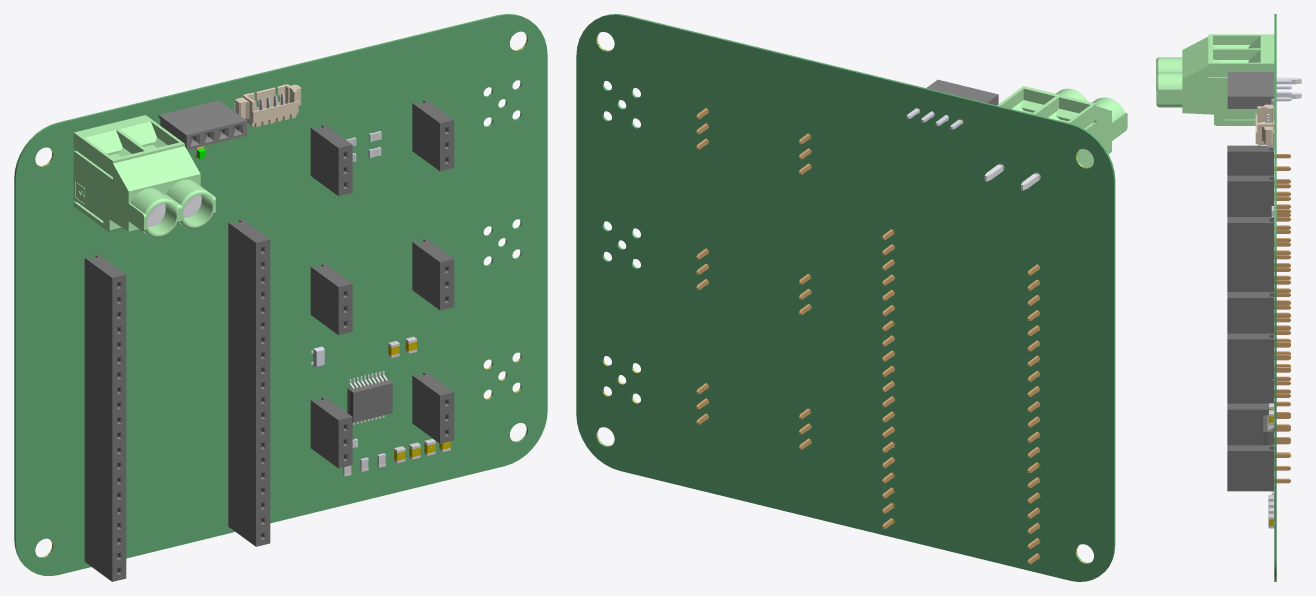
File: brewbox1.0.glb
3 renders of one model, left to right at view 1: azimuth 30°, elevation 25°; view 2: azimuth 150°, elevation 25°; view 3: azimuth 270°, elevation 25°, orthographic. The views are drawn at different scales.
Parts seen in each view (by area): view 1: Boardbrewbox1.0, J4brewbox1.0, J5brewbox1.0, mkds_5-2-6.35, J8brewbox1.0, J3brewbox1.0, J6brewbox1.0, J1brewbox1.0, J2brewbox1.0, J7brewbox1.0, P2brewbox1.0, Body; view 2: Boardbrewbox1.0, mkds_5-2-6.35; view 3: mkds_5-2-6.35, J5brewbox1.0, J8brewbox1.0, J7brewbox1.0, J6brewbox1.0, J1brewbox1.0, J3brewbox1.0, PPPC021LFBN-RC_C04 (×5), Boardbrewbox1.0, J2brewbox1.0, J4brewbox1.0, P2brewbox1.0 (+1 smaller).
Part boxes in pixels (bbox=[...]): Boardbrewbox1.0: bbox=[14, 14, 547, 575]; J4brewbox1.0: bbox=[84, 254, 126, 581]; J5brewbox1.0: bbox=[228, 219, 270, 546]; mkds_5-2-6.35: bbox=[73, 115, 215, 237]; J8brewbox1.0: bbox=[412, 99, 454, 171]; J3brewbox1.0: bbox=[310, 124, 352, 196]; J6brewbox1.0: bbox=[412, 238, 454, 310]; J1brewbox1.0: bbox=[310, 263, 352, 335]; J2brewbox1.0: bbox=[310, 396, 352, 468]; J7brewbox1.0: bbox=[412, 372, 454, 443]; P2brewbox1.0: bbox=[235, 84, 301, 126]; Body: bbox=[347, 379, 392, 422]; Boardbrewbox1.0: bbox=[576, 14, 1115, 581]; mkds_5-2-6.35: bbox=[984, 86, 1127, 190]; mkds_5-2-6.35: bbox=[1156, 34, 1301, 125]; J5brewbox1.0: bbox=[1227, 263, 1273, 403]; J8brewbox1.0: bbox=[1227, 217, 1273, 263]; J7brewbox1.0: bbox=[1227, 445, 1273, 491]; J6brewbox1.0: bbox=[1227, 333, 1273, 379]; J1brewbox1.0: bbox=[1227, 292, 1273, 333]; J3brewbox1.0: bbox=[1227, 175, 1273, 216]; PPPC021LFBN-RC_C04 (×5): bbox=[1227, 72, 1274, 108]; Boardbrewbox1.0: bbox=[1274, 14, 1276, 581]; J2brewbox1.0: bbox=[1227, 403, 1273, 445]; J4brewbox1.0: bbox=[1227, 145, 1273, 175]; P2brewbox1.0: bbox=[1255, 104, 1274, 145].
Size of the model in its own units: 0.094 by 0.0762 by 0.0265.
